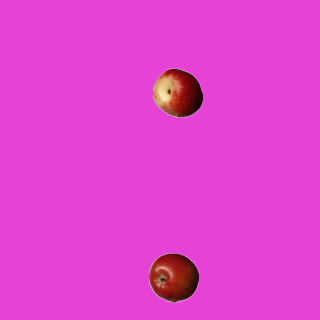Apple Braeburn: (148, 252, 198, 302)
Nectarine: (152, 67, 202, 117)
